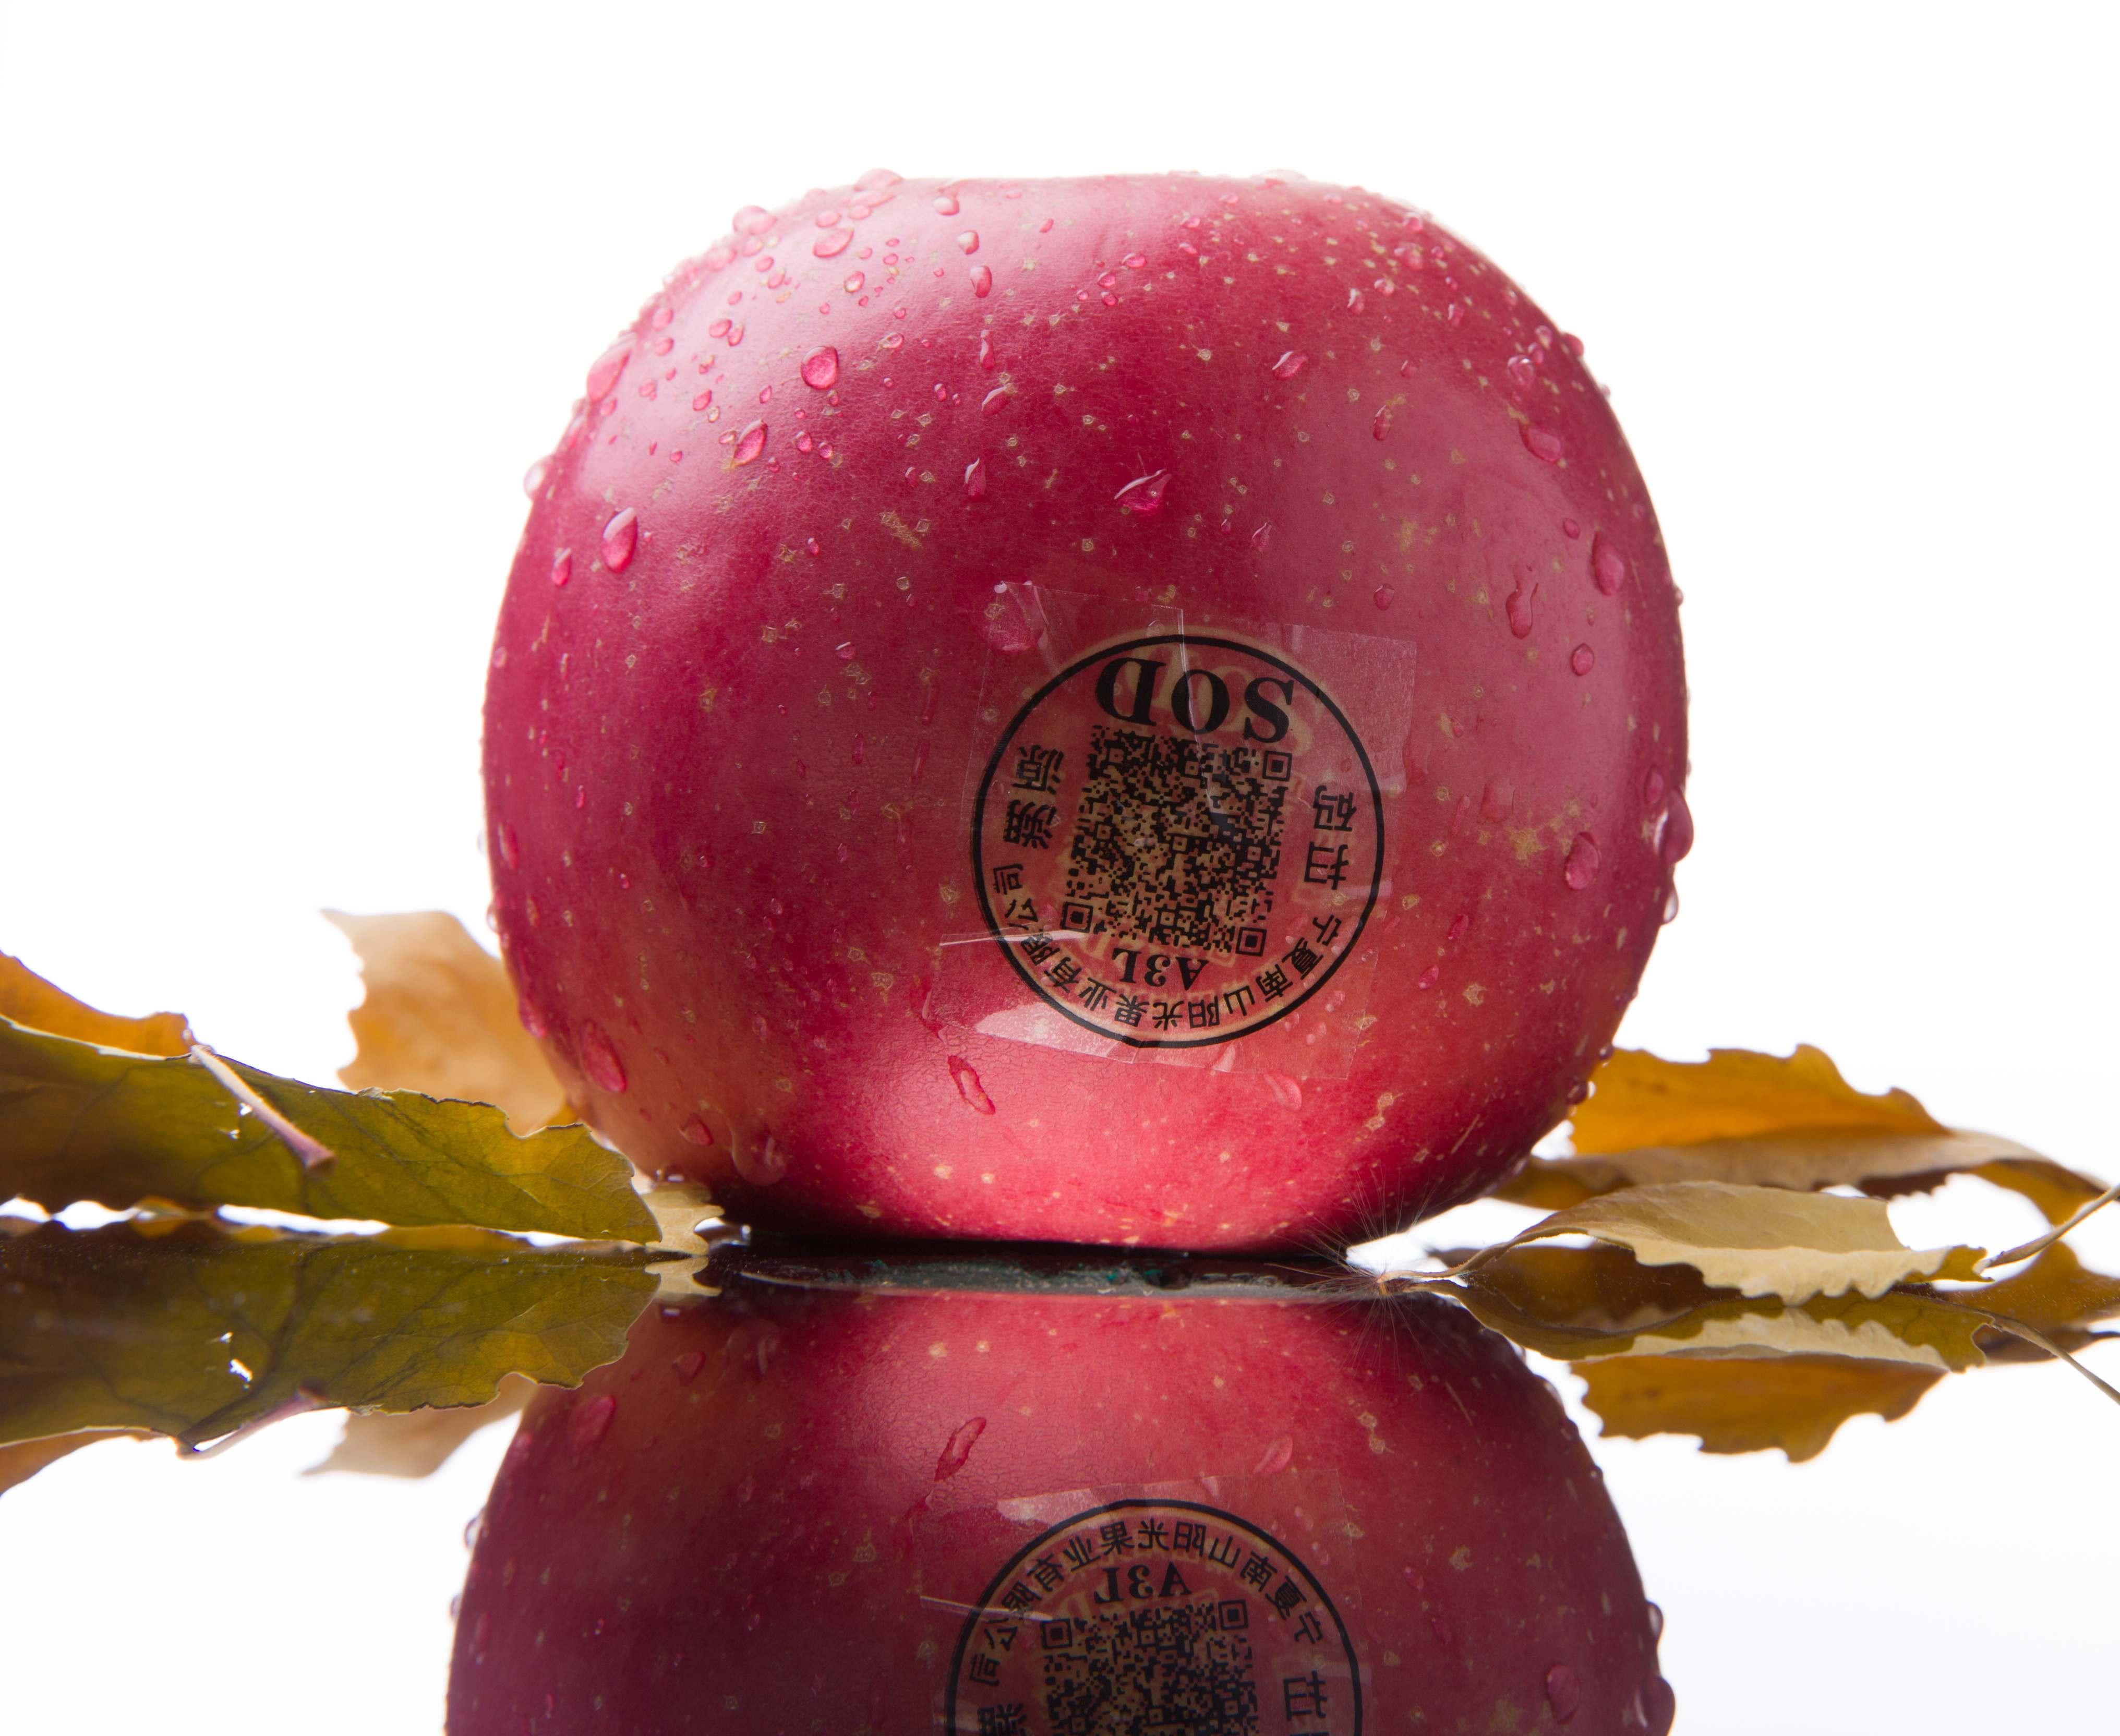apple: (447, 169, 1682, 1282)
